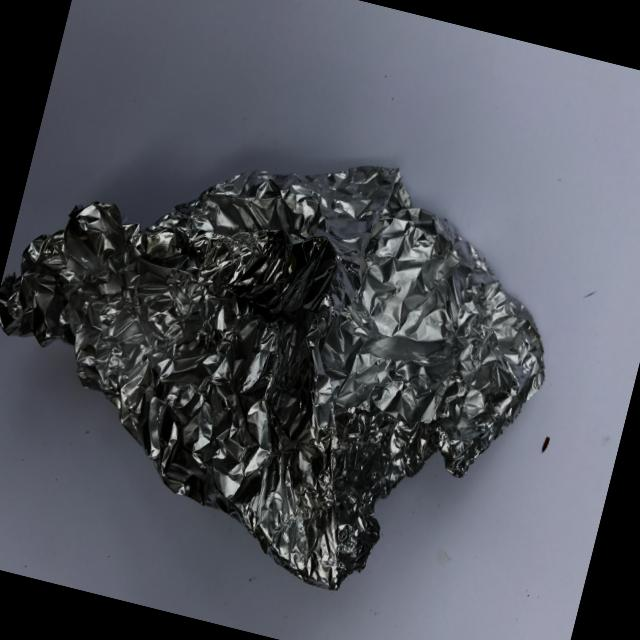Metal: (0, 38, 605, 639)
